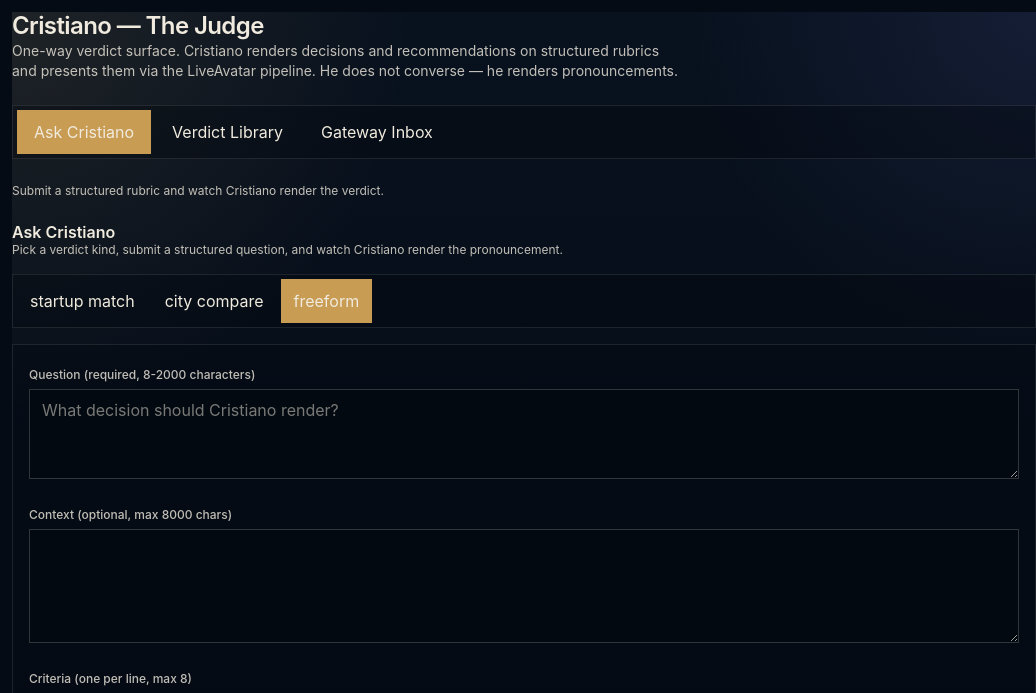
Scenario: CristianoDashboard — tab switching › switches to library tab when its button is clicked
Click the tab with test id "cristiano-dashboard-tab-library": (228, 132) [155,110,300,154]
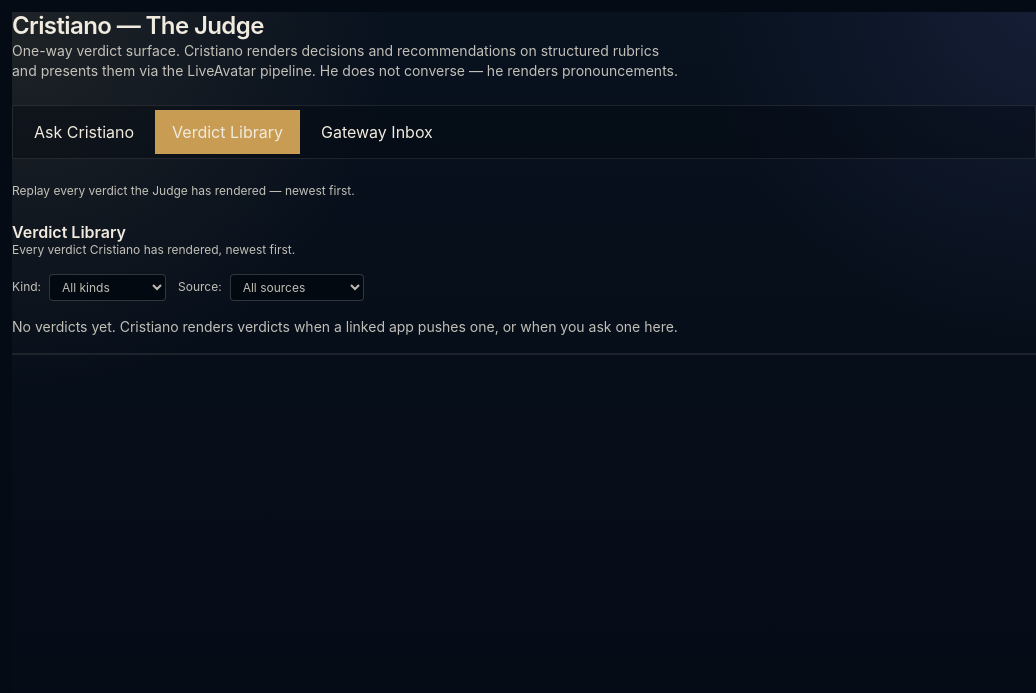
Expected: the panel with test id "cristiano-dashboard-panel-library" is shown, [12,223,1035,355]
